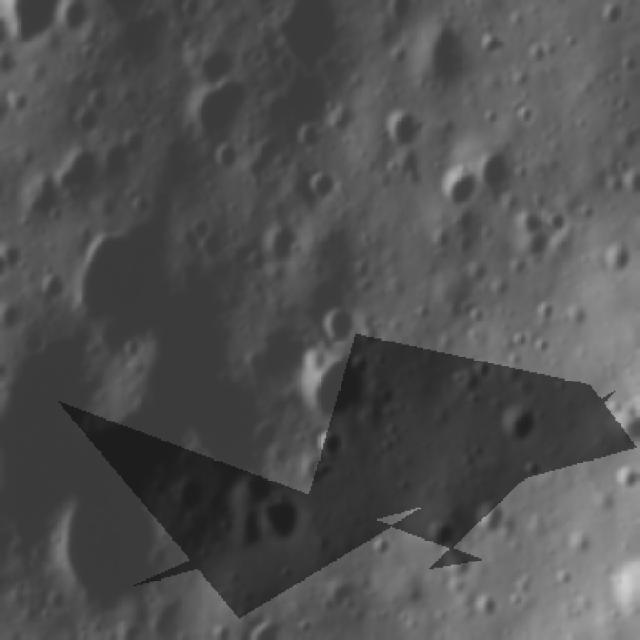crater: (52, 209, 197, 337), (41, 487, 172, 627), (290, 345, 381, 426), (260, 0, 342, 89), (188, 68, 252, 158), (0, 0, 63, 63), (247, 494, 305, 558), (312, 291, 363, 354), (494, 396, 544, 456), (258, 219, 307, 276), (381, 100, 424, 160), (444, 166, 481, 226), (468, 495, 509, 542), (298, 174, 347, 212), (235, 611, 299, 640), (0, 249, 12, 290)
